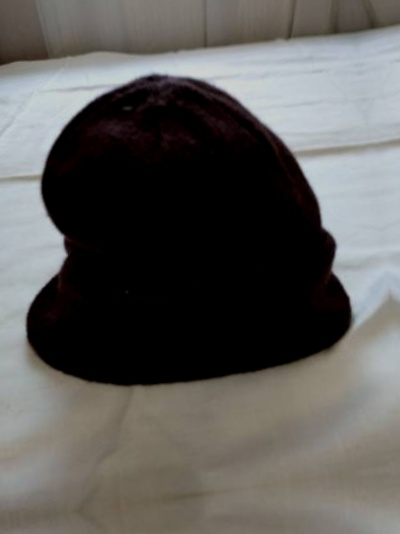Hat: (0, 55, 367, 413), (391, 2, 400, 359)
